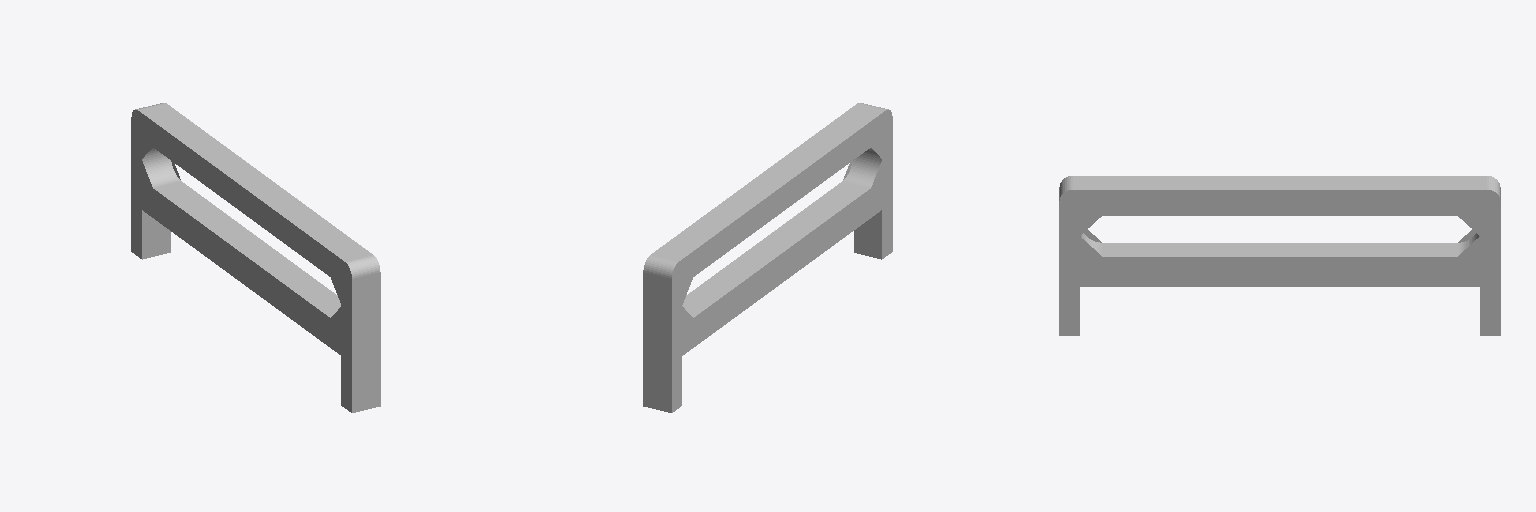
File: Tr-RouleauRailG.obj
The picture shows the model from 3 angles: view 1: azimuth 30°, elevation 25°; view 2: azimuth 150°, elevation 25°; view 3: azimuth 270°, elevation 25°; orthographic projection.
Visible parts, largest first — view 1: Tr-RouleauRailG_Rail_Cube.003; view 2: Tr-RouleauRailG_Rail_Cube.003; view 3: Tr-RouleauRailG_Rail_Cube.003.
Boxes of the visible parts, x1=… form: Tr-RouleauRailG_Rail_Cube.003: x1=131, y1=103, x2=380, y2=412; Tr-RouleauRailG_Rail_Cube.003: x1=643, y1=103, x2=892, y2=412; Tr-RouleauRailG_Rail_Cube.003: x1=1059, y1=176, x2=1500, y2=335.
Size of the model in its own units: 0.2995 by 1.47 by 4.